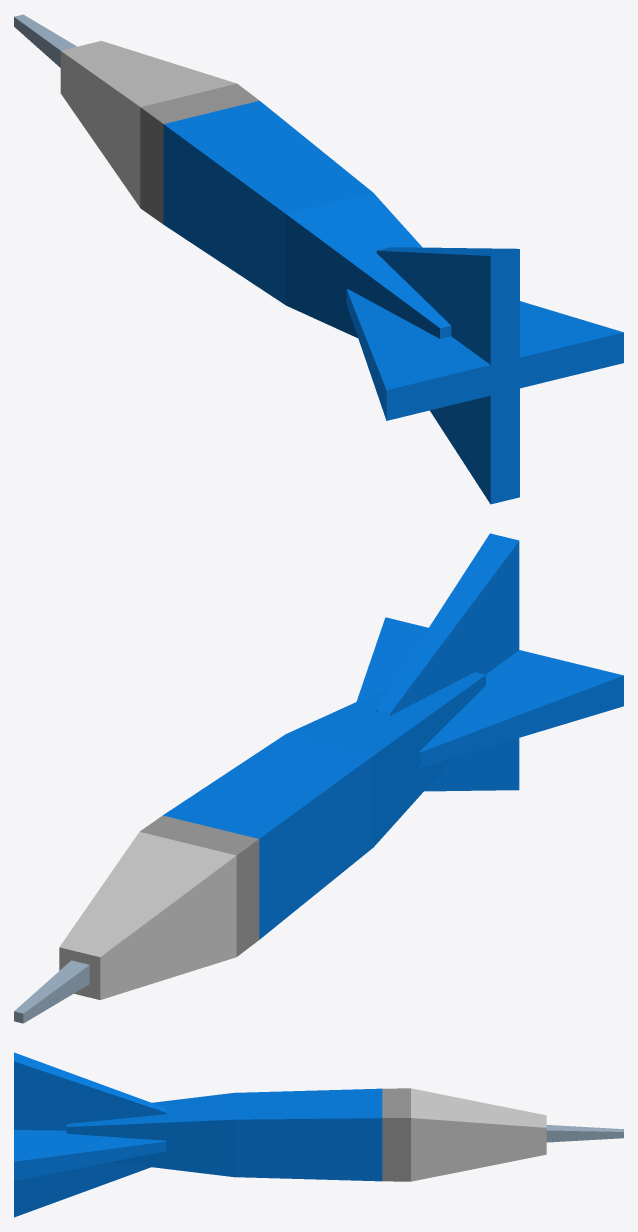
File: Dart Blue.fbx
3 views of the same model, one above another, from view 1: azimuth 30°, elevation 25°; view 2: azimuth 150°, elevation 25°; view 3: azimuth 270°, elevation 25° (orthographic). The views are drawn at different scales.
Visible parts, largest first — view 1: Dart Blue; view 2: Dart Blue; view 3: Dart Blue.
Boxes of the visible parts, x1,y1,x2,y2 form: Dart Blue: (14, 14, 623, 504); Dart Blue: (14, 533, 623, 1023); Dart Blue: (14, 1052, 623, 1217).
Bounding box in the file's own units: 9.23 × 9.23 × 32.65.
